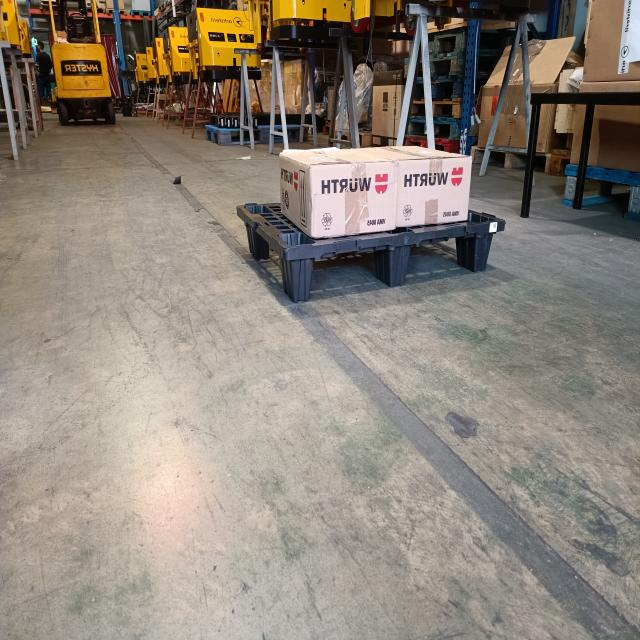block: (280, 246, 314, 304), (381, 240, 416, 291), (471, 222, 504, 271), (242, 208, 266, 270)
front: (290, 218, 507, 310)
